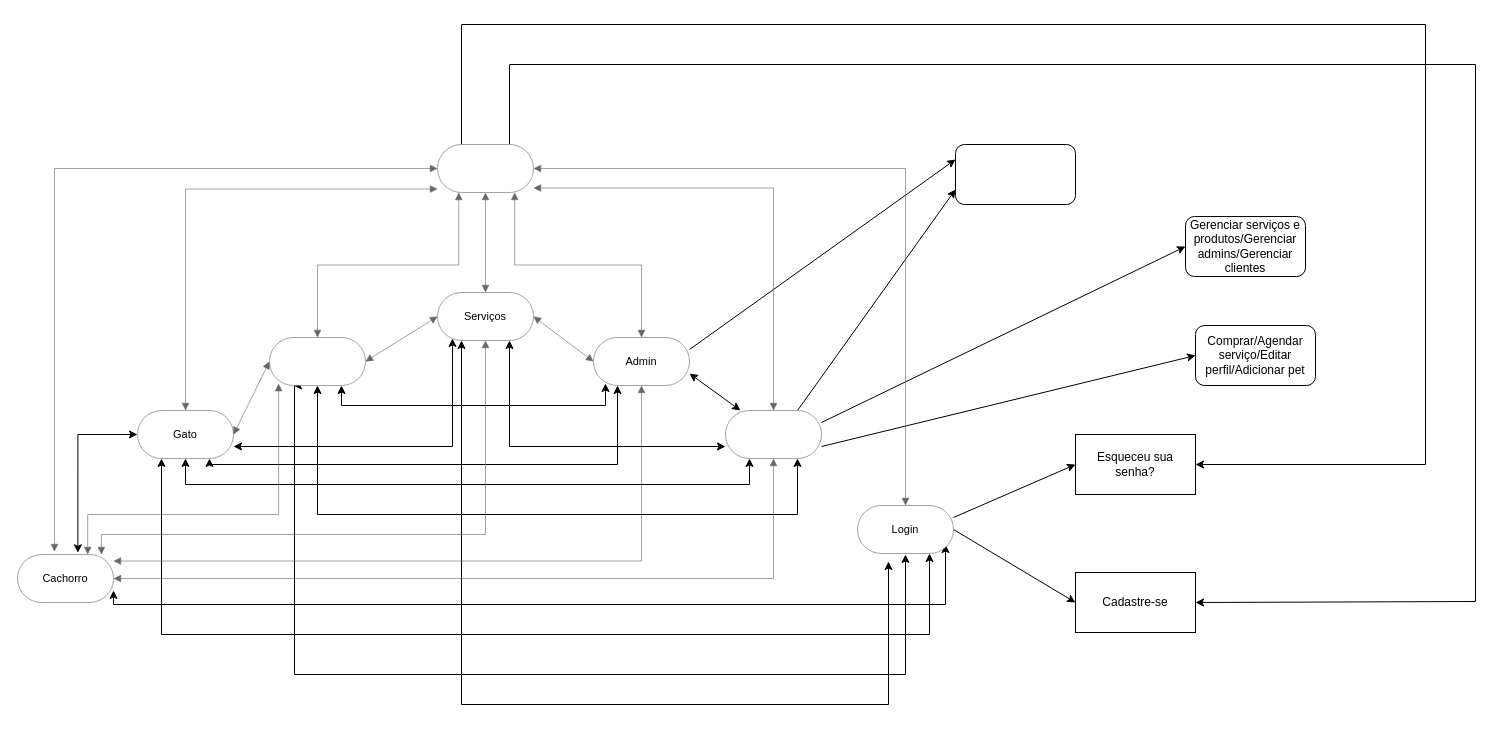
Image size: 1501x731. Some labels were removed from this diagram. The shapes that lost their labels are listed below. From the top down, each one's centre as x and y in pixels, then its label:
the point at 485,168: Home
the point at 1015,174: Logout
the point at 317,361: Outros Pets
the point at 773,434: Usuário
